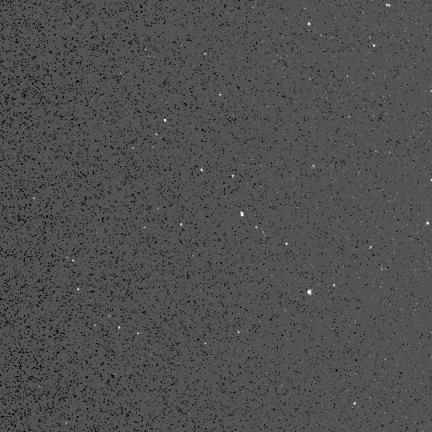blob: (241, 212, 244, 216), (164, 119, 167, 123)
